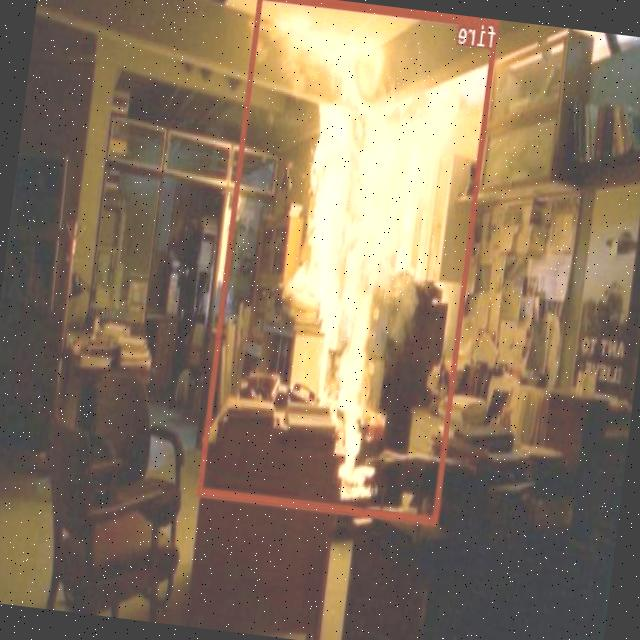fire: (198, 0, 500, 522)
